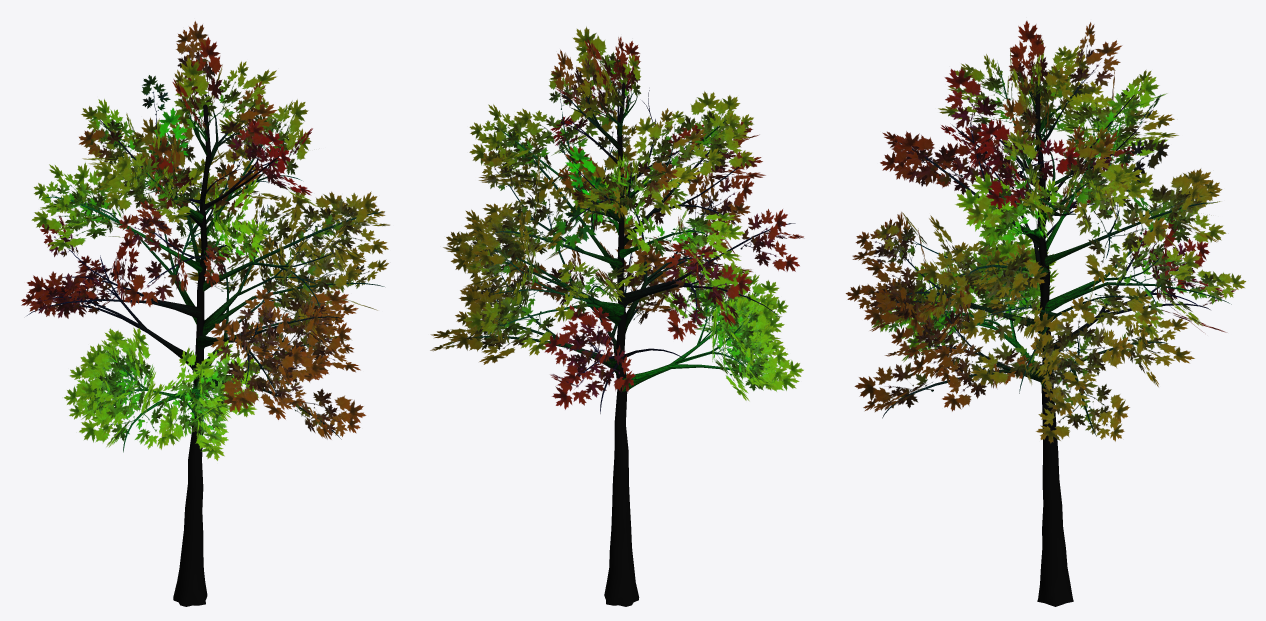
The model's file is treeyelow-v1.glb.
3 views of the same model, side by side, from view 1: azimuth 30°, elevation 25°; view 2: azimuth 150°, elevation 25°; view 3: azimuth 270°, elevation 25° (orthographic). The views are drawn at different scales.
Visible parts, largest first — view 1: SM_Maple1_MZRT; view 2: SM_Maple1_MZRT; view 3: SM_Maple1_MZRT.
Boxes of the visible parts, x1,y1,x2,y2 form: SM_Maple1_MZRT: (21,21,389,606); SM_Maple1_MZRT: (430,26,803,606); SM_Maple1_MZRT: (845,21,1245,606).
Bounding box in the file's own units: 3.79 × 5.58 × 3.54.
2 materials, 2 textured.
